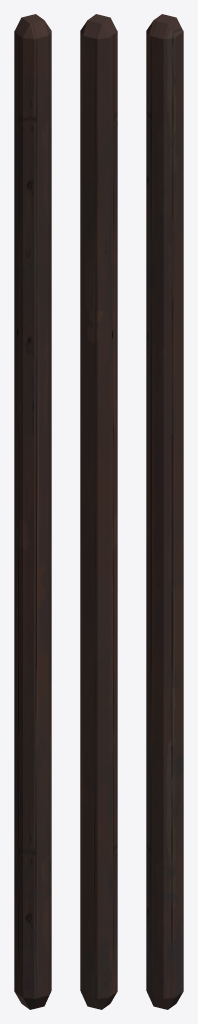
File: wood_deco2_horror.glb
3 renders of one model, left to right at view 1: azimuth 30°, elevation 25°; view 2: azimuth 150°, elevation 25°; view 3: azimuth 330°, elevation 25°, orthographic.
Parts seen in each view (by area): view 1: wood_deco3; view 2: wood_deco3; view 3: wood_deco3.
Part boxes in pixels (x1,y1,x2,y2): wood_deco3: (14,14,51,1009); wood_deco3: (80,14,117,1009); wood_deco3: (146,14,183,1009).
Size of the model in its own units: 0.048 by 1.57 by 0.0497.
Materials: 1 (1 with a texture image).
